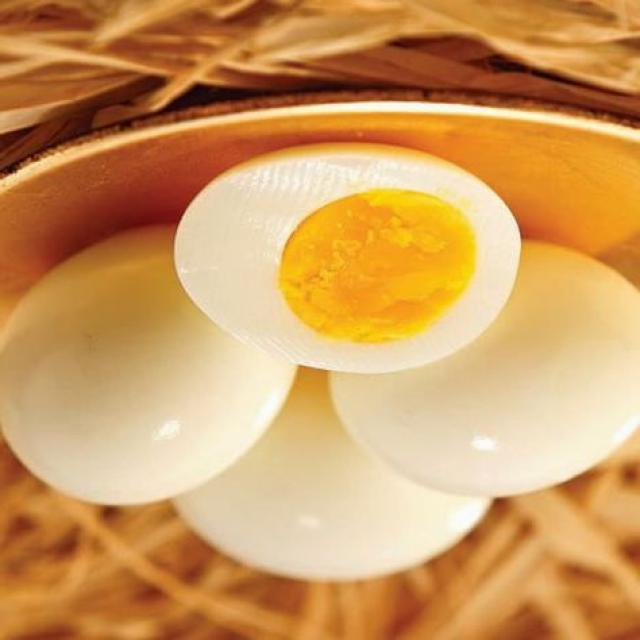telur rebus: (173, 139, 523, 371)
